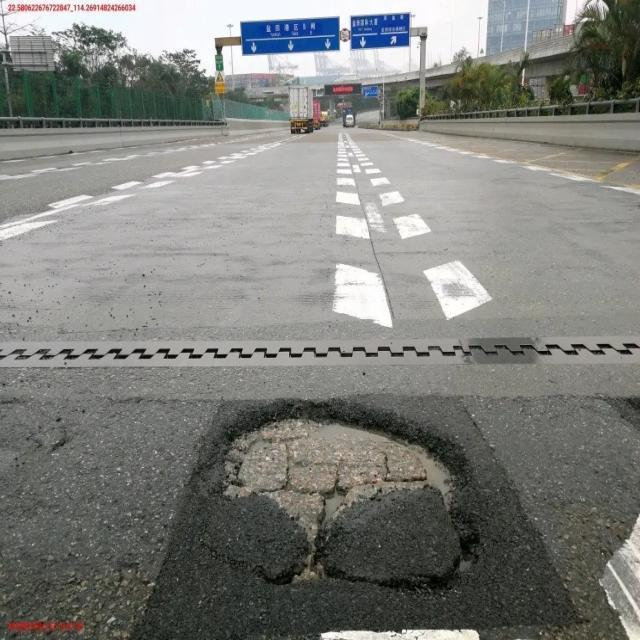Buraco: (187, 396, 496, 598)
